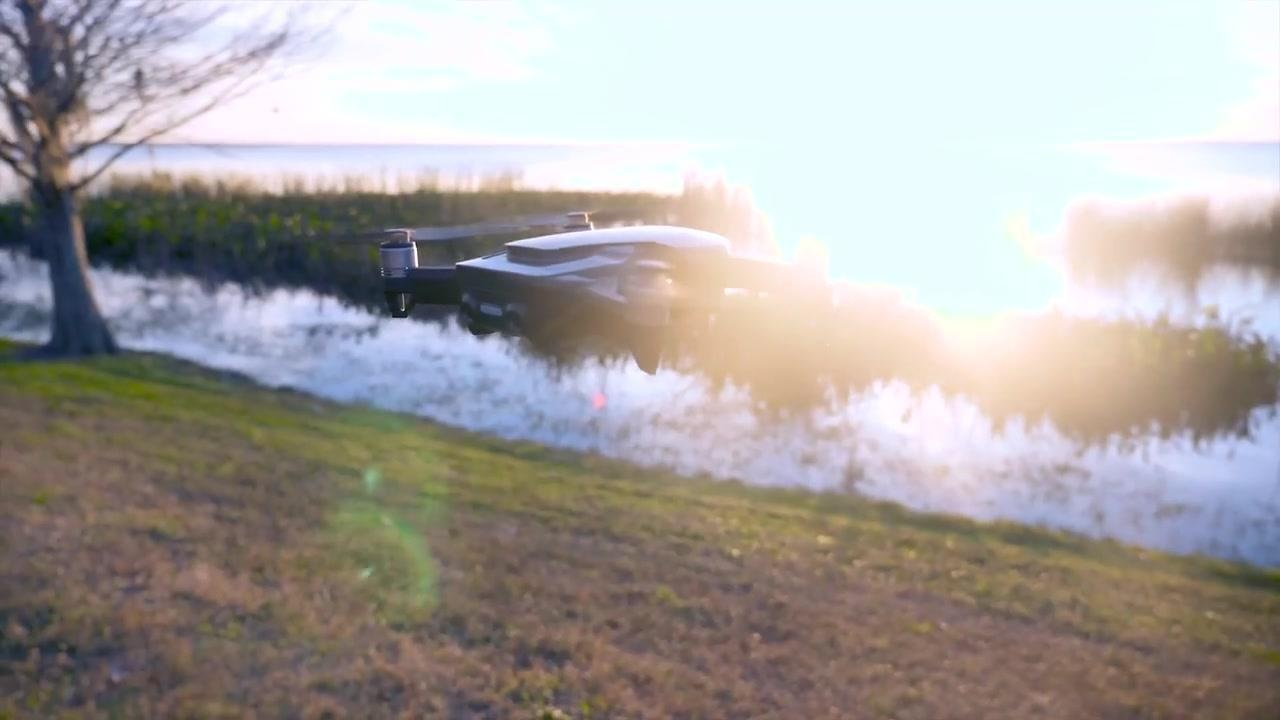UAV: (372, 210, 814, 377)
